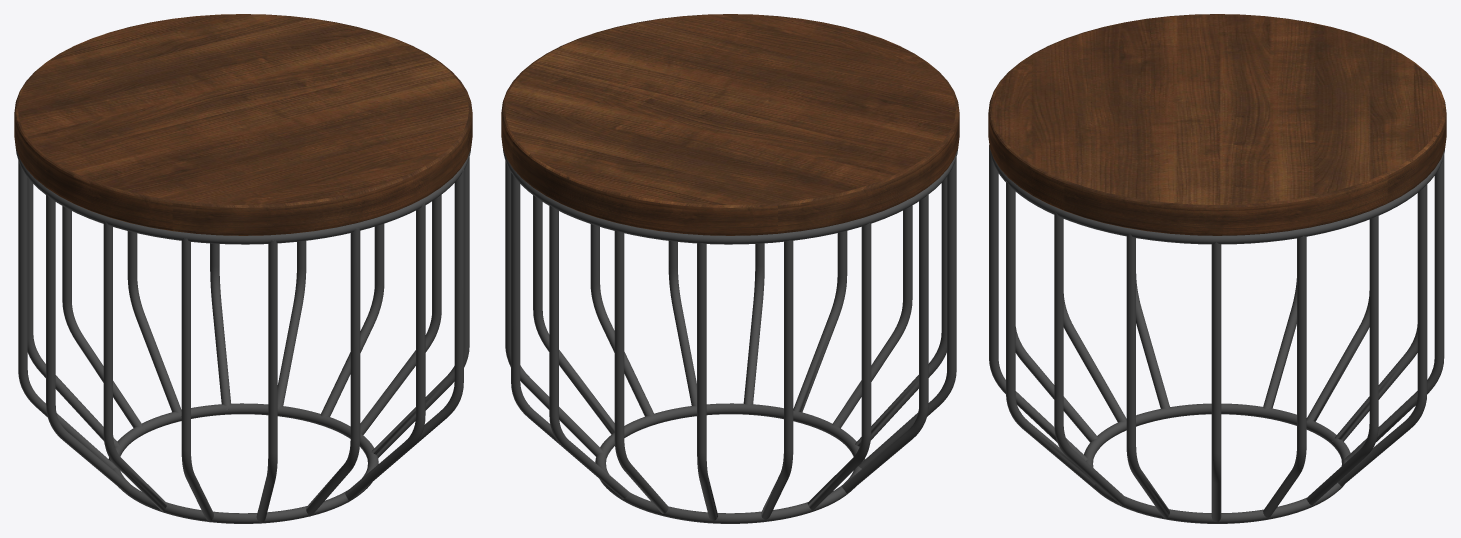
Rendered from side table_1_1.glb.
3 renders of one model, left to right at view 1: azimuth 30°, elevation 25°; view 2: azimuth 150°, elevation 25°; view 3: azimuth 270°, elevation 25°, orthographic.
Parts seen in each view (by area): view 1: Cylinder003_1, Circle005_0; view 2: Cylinder003_1, Circle005_0; view 3: Cylinder003_1, Circle005_0.
Part boxes in pixels (<box>): Cylinder003_1: <box>14,14,472,235</box>; Circle005_0: <box>15,148,470,523</box>; Cylinder003_1: <box>501,14,959,235</box>; Circle005_0: <box>503,148,958,523</box>; Cylinder003_1: <box>988,14,1446,235</box>; Circle005_0: <box>989,145,1444,523</box>.
Size of the model in its own units: 0.381 by 0.3292 by 0.381.
2 materials, 1 textured.
